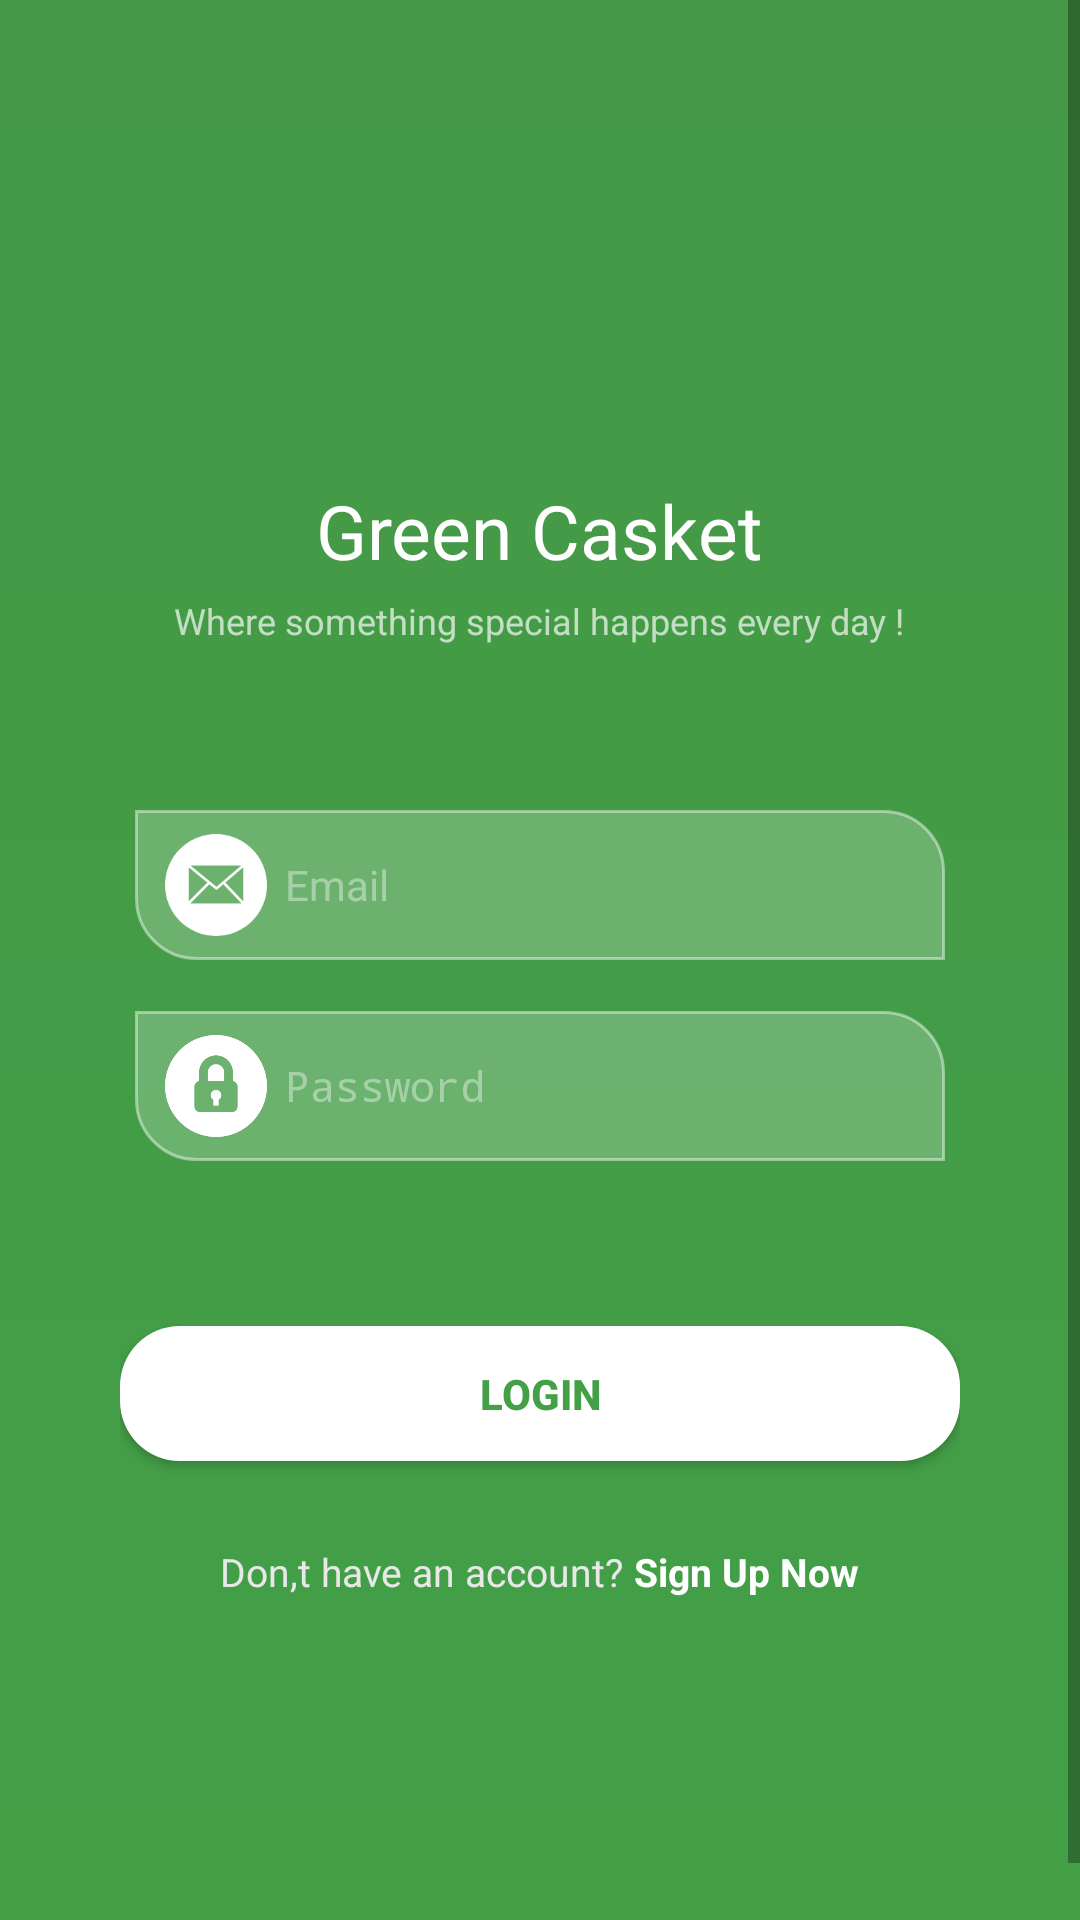

Point at icon controls on the screen. Image size 1080*1920, points as (x,y).
lock: (216,1086)
